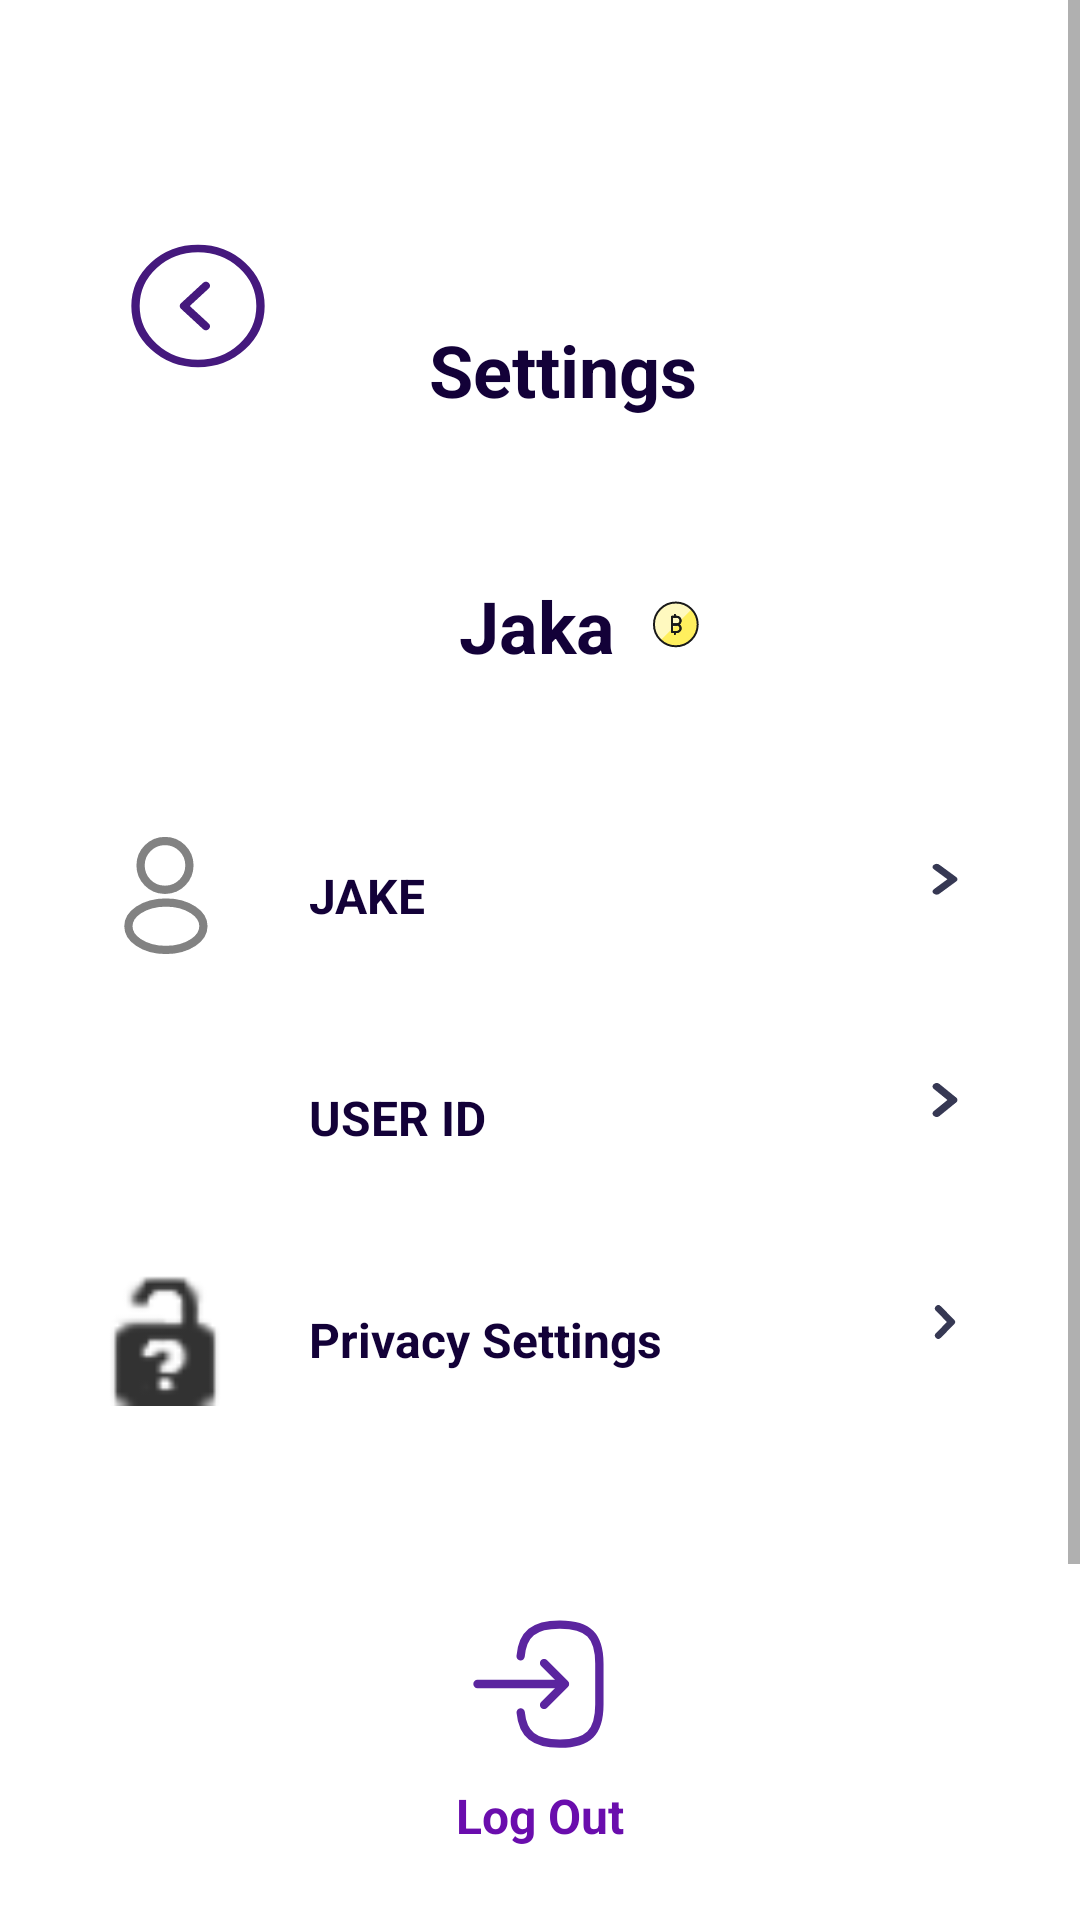

Named icons in this screenshot (1080px×1920px) and their centers, point (x, y):
arrow circle left: point (198, 306)
login: point (538, 1684)
partial secure: point (165, 1341)
profile: point (166, 895)
